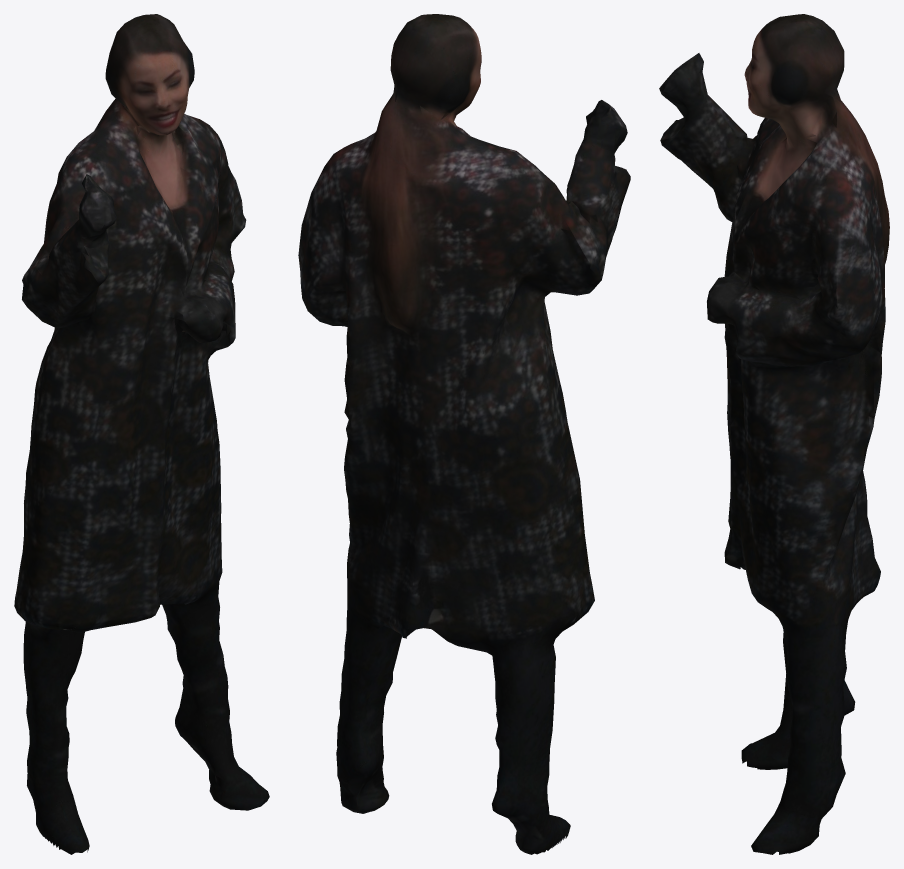
File: evercoast.0126.gltf
3 views of the same model, side by side, from view 1: azimuth 30°, elevation 25°; view 2: azimuth 150°, elevation 25°; view 3: azimuth 270°, elevation 25° (orthographic). The views are drawn at different scales.
Visible parts, largest first — view 1: HIGH; view 2: HIGH; view 3: HIGH.
Part boxes in pixels (box(x1,y1,x2,y2)): HIGH: box(14, 14, 269, 854); HIGH: box(298, 14, 630, 854); HIGH: box(659, 14, 889, 854).
Size of the model in its own units: 0.6213 by 1.82 by 0.4799.
1 material, 1 textured.
